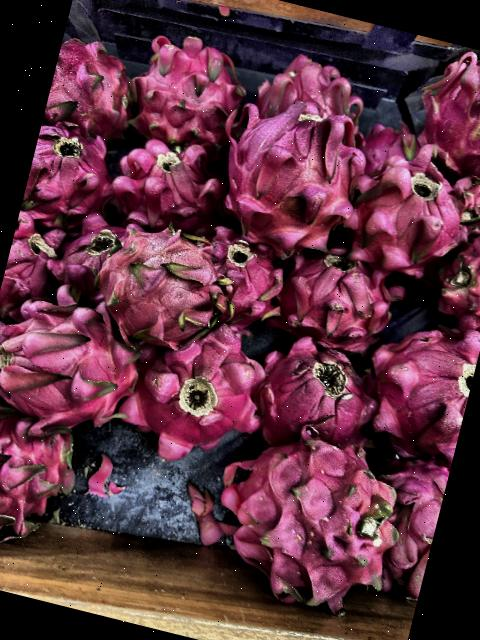buah-naga-belum-matang: (87, 225, 257, 356)
buah-naga-matang: (200, 414, 417, 629), (202, 90, 374, 262), (0, 291, 155, 447), (122, 324, 277, 469), (342, 123, 480, 283), (356, 313, 480, 471), (118, 18, 254, 154), (243, 318, 384, 448), (93, 130, 229, 242), (0, 408, 91, 573), (19, 117, 130, 237), (280, 242, 397, 352), (42, 30, 146, 142), (413, 41, 480, 182), (0, 216, 75, 318)
